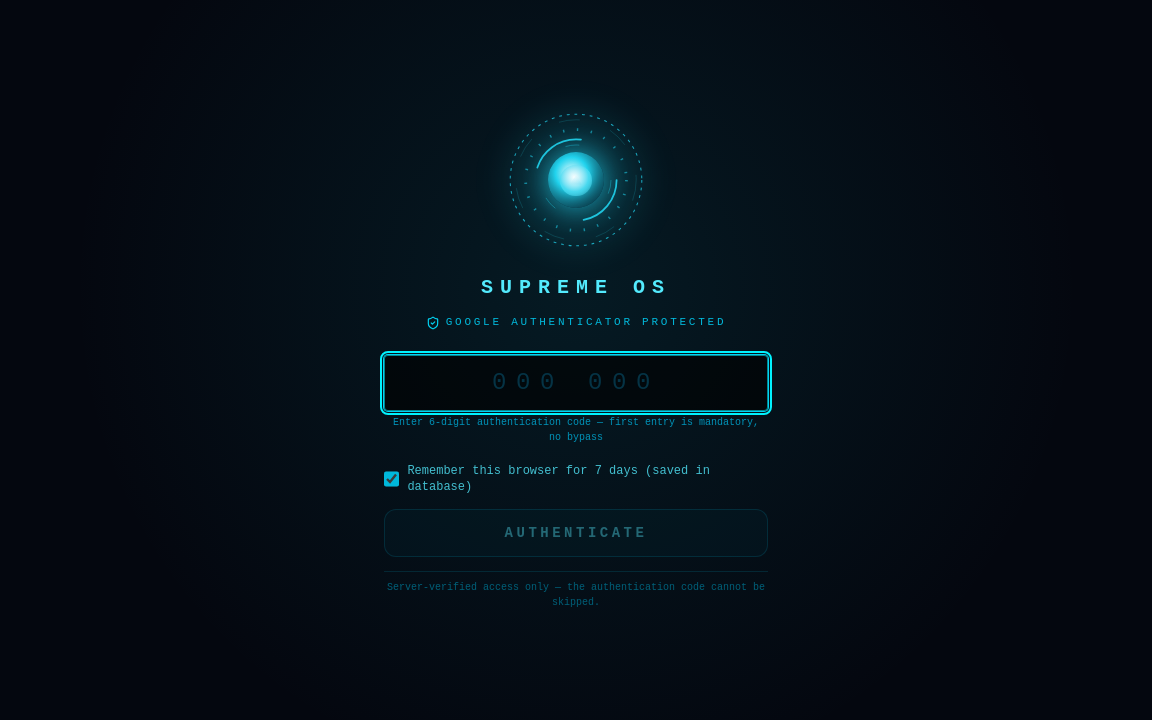
Test: JarvisAdminGate › shows server error message on incorrect code
In the field with placeholder "000 000": (576, 383) [384,355,768,411], type "999999"
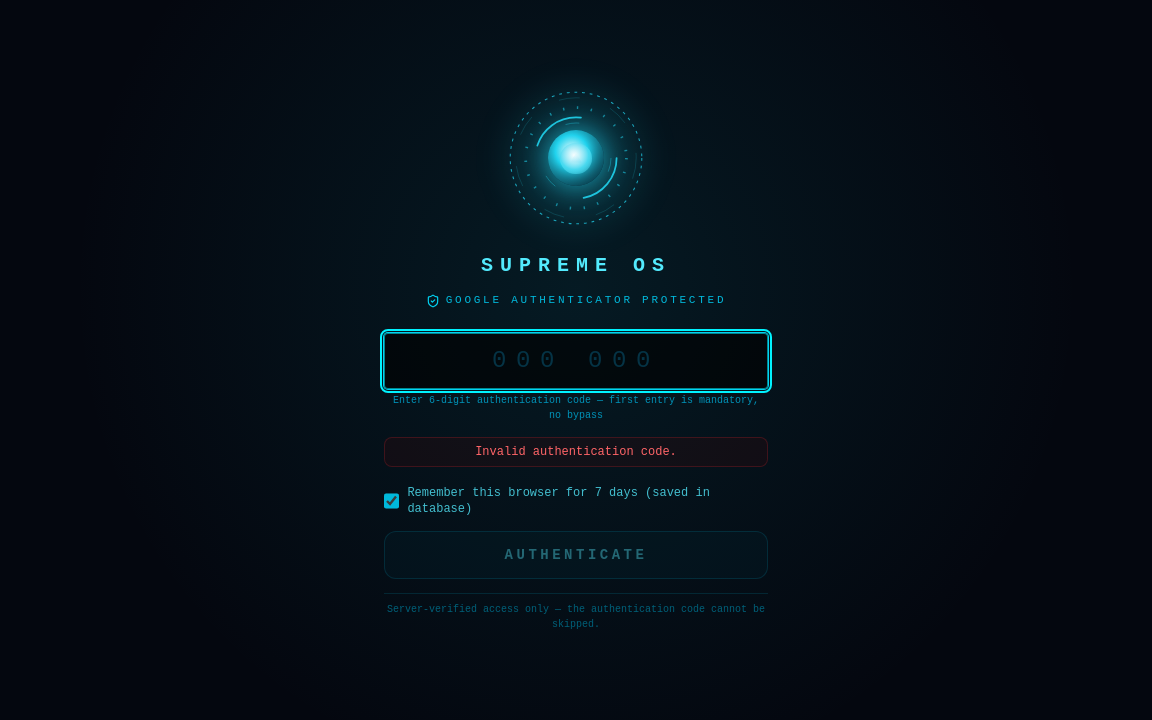
Expected: the text "Invalid authentication code." is shown, [384,437,768,467]
